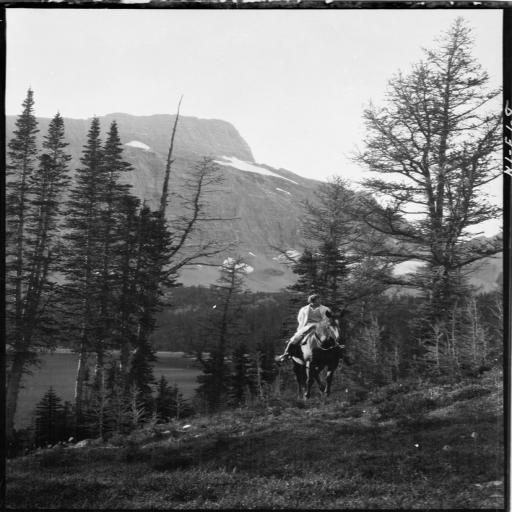Horse: (292, 307, 354, 402)
